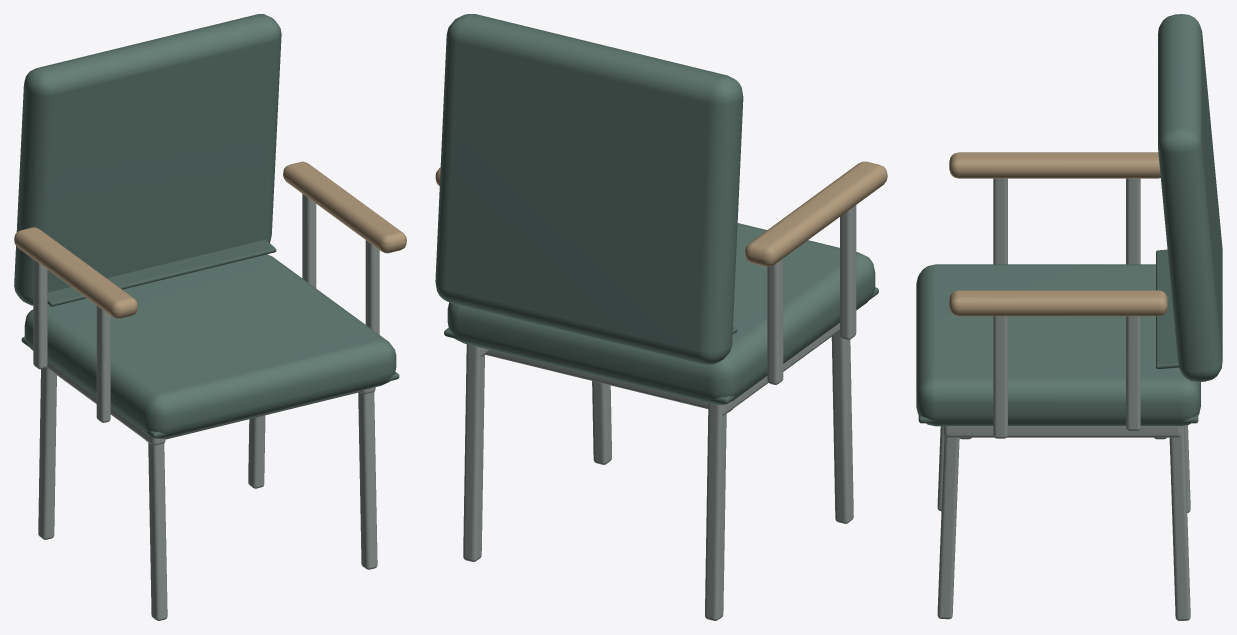
Rendered from waiting-chair.glb.
3 renders of one model, left to right at view 1: azimuth 30°, elevation 25°; view 2: azimuth 150°, elevation 25°; view 3: azimuth 270°, elevation 25°, orthographic. The views are drawn at different scales.
Visible parts, largest first — view 1: Woven eucalyptus upholstery, Satin aluminium frame, Oiled ash armrest, Upholstery seam; view 2: Woven eucalyptus upholstery, Satin aluminium frame, Oiled ash armrest, Upholstery seam; view 3: Woven eucalyptus upholstery, Satin aluminium frame, Oiled ash armrest, Upholstery seam.
Part boxes in pixels (box(x1,y1,x2,y2)): Woven eucalyptus upholstery: box(14, 14, 396, 438); Satin aluminium frame: box(33, 194, 379, 620); Oiled ash armrest: box(14, 161, 406, 318); Upholstery seam: box(21, 239, 399, 438); Woven eucalyptus upholstery: box(435, 14, 875, 404); Satin aluminium frame: box(463, 205, 856, 620); Oiled ash armrest: box(435, 161, 887, 266); Upholstery seam: box(444, 287, 878, 404); Woven eucalyptus upholstery: box(916, 14, 1222, 426); Satin aluminium frame: box(937, 178, 1190, 620); Oiled ash armrest: box(949, 152, 1167, 316); Upholstery seam: box(918, 249, 1198, 423).
Bounding box in the file's own units: 0.661 × 1.01 × 0.5652.
